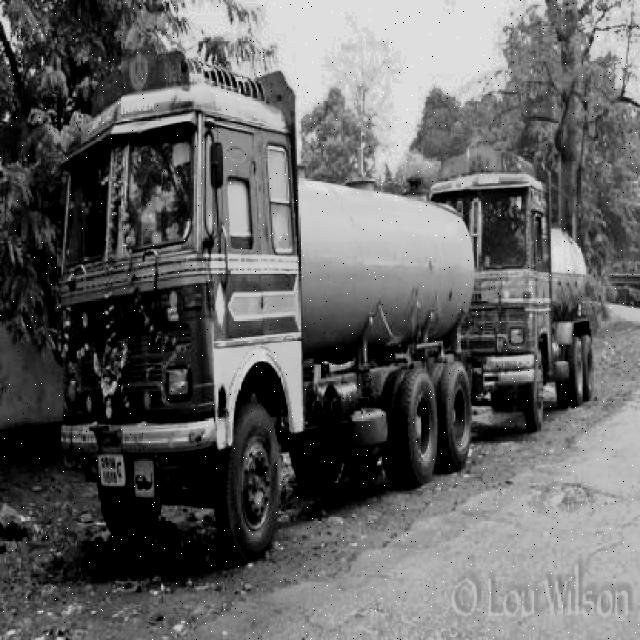HCV: (43, 90, 467, 512), (425, 136, 606, 428)
